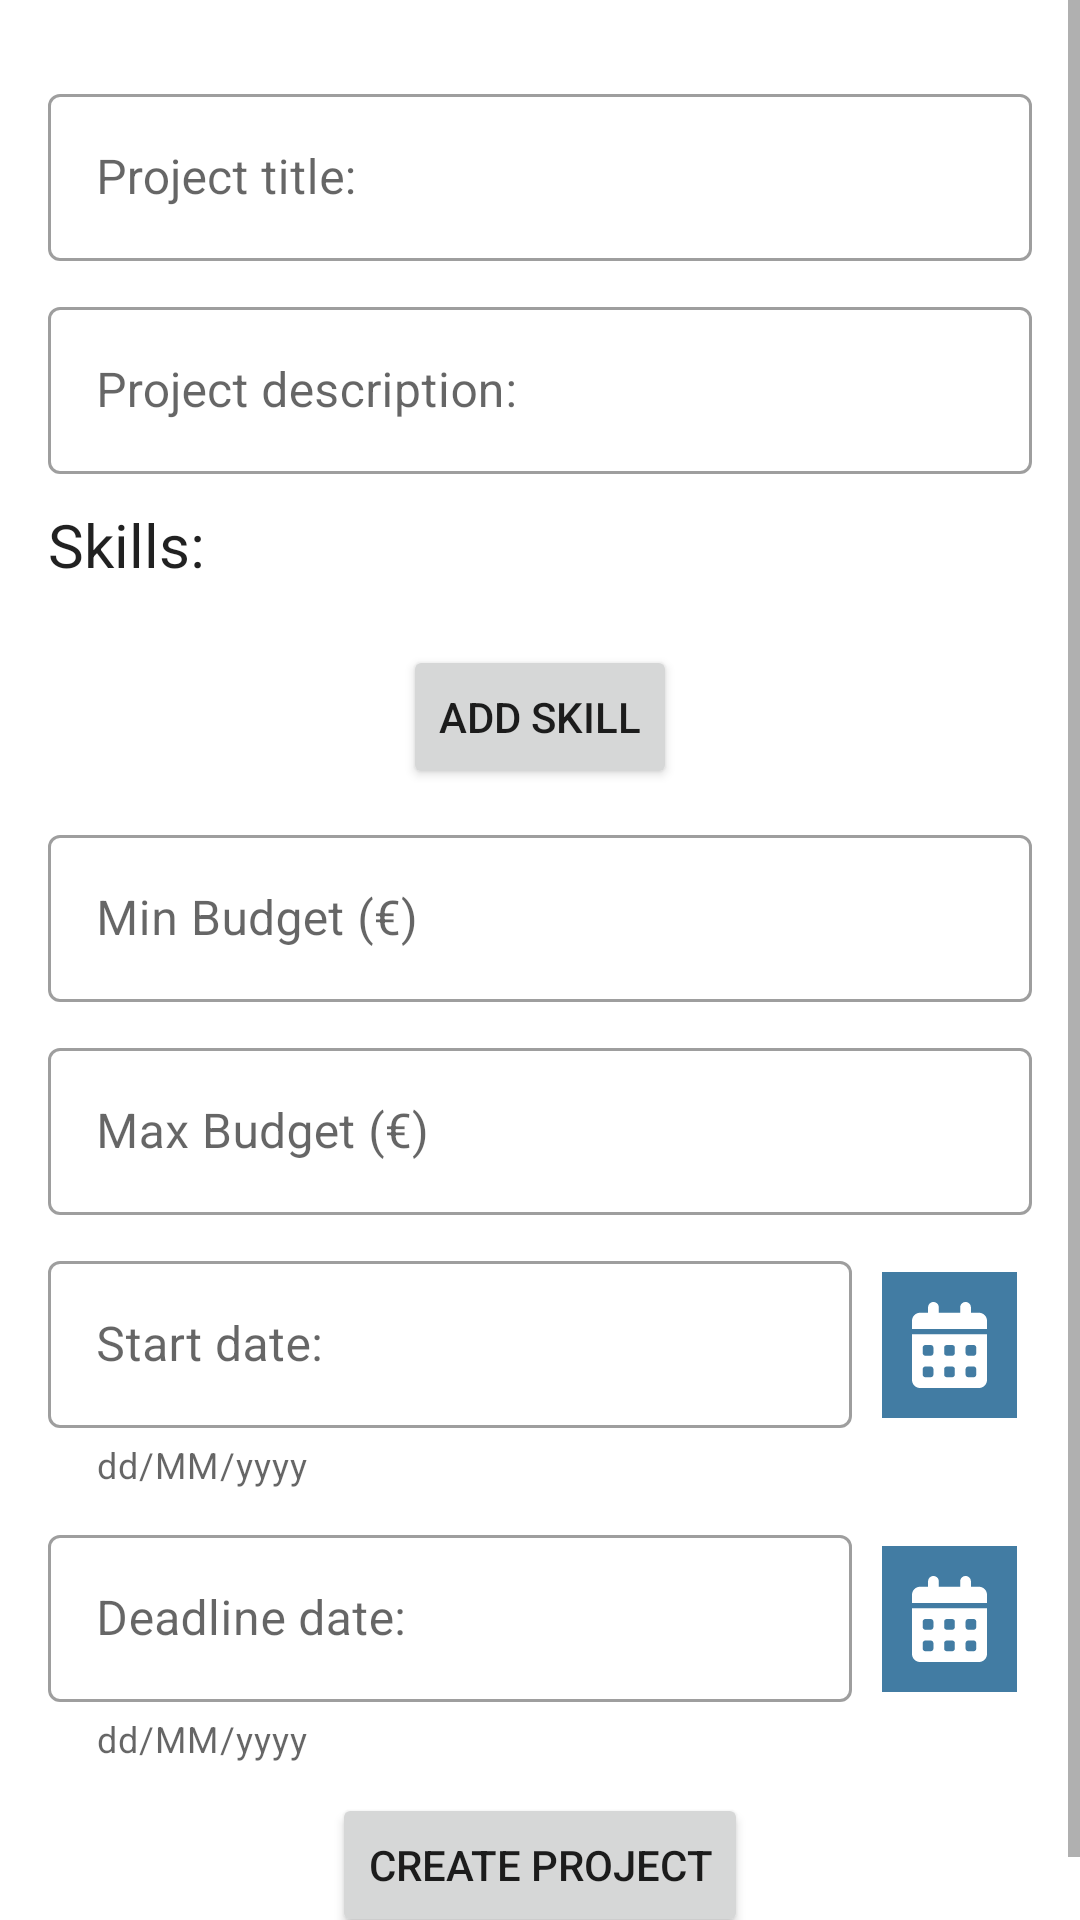

Where to tap for icons on this 1080px×1920px app screen, as (x,y):
Choose date: (949,1345), (949,1619)
